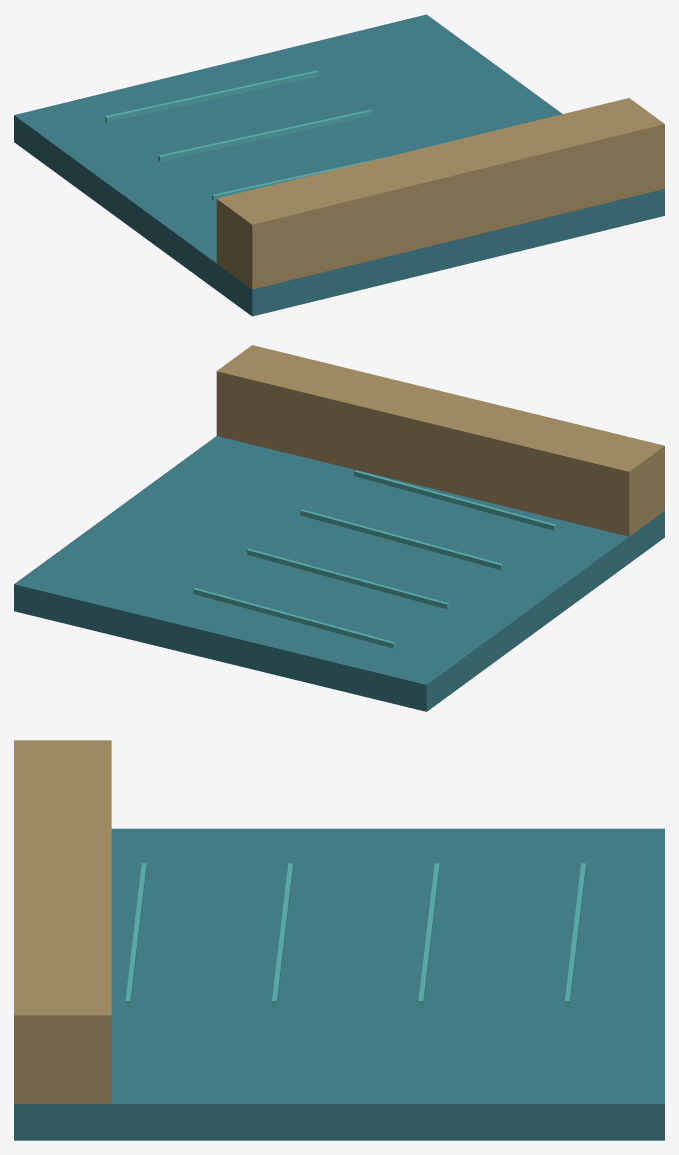
File: terrain-river-bend.lod0.glb
The picture shows the model from 3 angles, top to bottom: view 1: azimuth 30°, elevation 25°; view 2: azimuth 150°, elevation 25°; view 3: azimuth 270°, elevation 25°; orthographic projection. The views are drawn at different scales.
Parts seen in each view (by area): view 1: terrain-river-bend__body; view 2: terrain-river-bend__body; view 3: terrain-river-bend__body.
Part boxes in pixels (x1,y1,x2,y2): terrain-river-bend__body: (14,14,664,316); terrain-river-bend__body: (14,345,664,711); terrain-river-bend__body: (14,740,664,1140).
Size of the model in its own units: 2 by 0.425 by 2.
